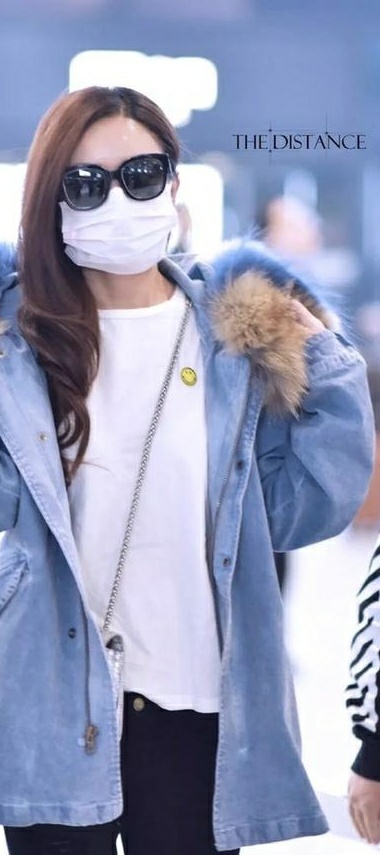with_mask: (22, 90, 206, 302)
